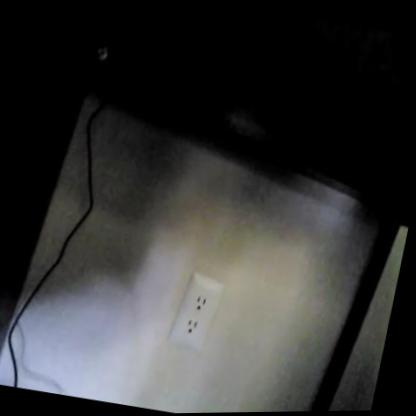OUTLET: (168, 271, 223, 351)
